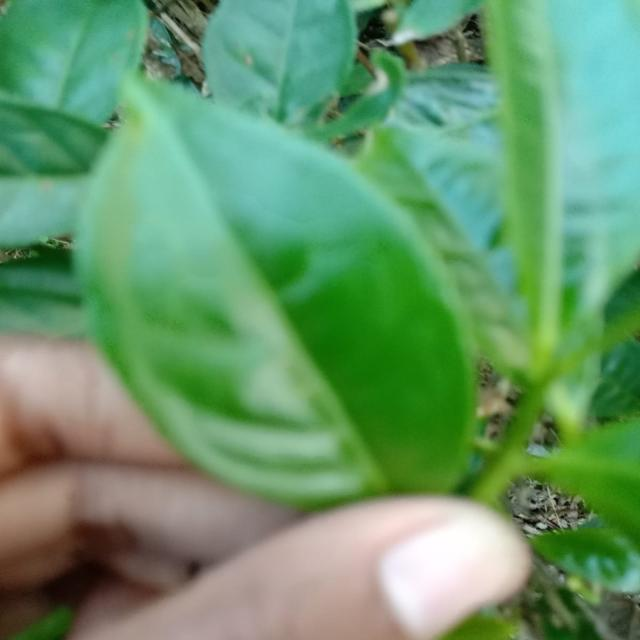Category C 4-7 days: (46, 51, 522, 532)
